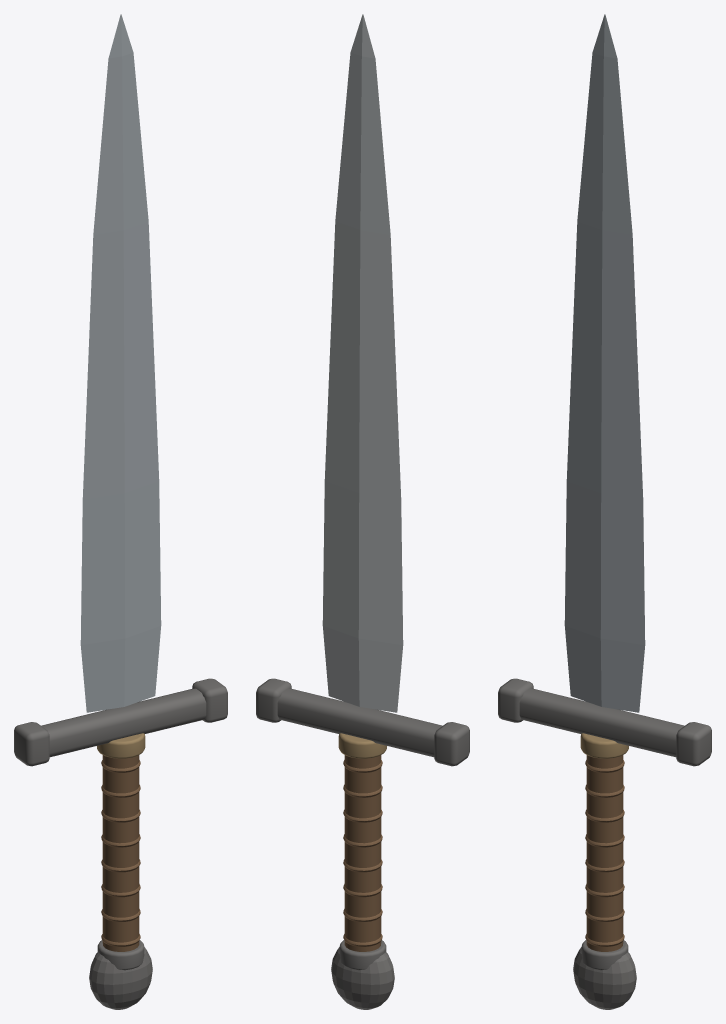
File: genesis_sword_provisional_v001.glb
The picture shows the model from 3 angles, left to right: view 1: azimuth 30°, elevation 25°; view 2: azimuth 150°, elevation 25°; view 3: azimuth 330°, elevation 25°; orthographic projection.
Parts seen in each view (by area): view 1: Genesis_Sword_Blade_Provisional, Genesis_Grip_Core, Genesis_Guard_Main, Genesis_Pommel, Genesis_Guard_End, Genesis_Guard_End.001, Genesis_Grip_Collar_Top, Genesis_Grip_Collar_Bottom; view 2: Genesis_Sword_Blade_Provisional, Genesis_Grip_Core, Genesis_Guard_Main, Genesis_Pommel, Genesis_Guard_End, Genesis_Guard_End.001, Genesis_Grip_Collar_Top, Genesis_Grip_Collar_Bottom; view 3: Genesis_Sword_Blade_Provisional, Genesis_Grip_Core, Genesis_Guard_Main, Genesis_Pommel, Genesis_Guard_End.001, Genesis_Guard_End, Genesis_Grip_Collar_Top, Genesis_Grip_Collar_Bottom.
Boxes of the visible parts, bbox=[...] form: Genesis_Sword_Blade_Provisional: bbox=[80, 14, 161, 712]; Genesis_Grip_Core: bbox=[102, 755, 139, 951]; Genesis_Guard_Main: bbox=[41, 688, 206, 757]; Genesis_Pommel: bbox=[89, 947, 152, 1009]; Genesis_Guard_End: bbox=[14, 722, 49, 766]; Genesis_Guard_End.001: bbox=[192, 678, 227, 722]; Genesis_Grip_Collar_Top: bbox=[97, 733, 145, 758]; Genesis_Grip_Collar_Bottom: bbox=[97, 940, 144, 970]; Genesis_Sword_Blade_Provisional: bbox=[322, 14, 403, 712]; Genesis_Grip_Core: bbox=[344, 755, 381, 951]; Genesis_Guard_Main: bbox=[277, 688, 442, 757]; Genesis_Pommel: bbox=[331, 947, 394, 1009]; Genesis_Guard_End: bbox=[434, 722, 469, 766]; Genesis_Guard_End.001: bbox=[256, 678, 291, 722]; Genesis_Grip_Collar_Top: bbox=[338, 733, 386, 758]; Genesis_Grip_Collar_Bottom: bbox=[339, 940, 386, 970]; Genesis_Sword_Blade_Provisional: bbox=[564, 14, 645, 712]; Genesis_Grip_Core: bbox=[586, 755, 623, 951]; Genesis_Guard_Main: bbox=[519, 688, 684, 757]; Genesis_Pommel: bbox=[573, 947, 636, 1009]; Genesis_Guard_End.001: bbox=[676, 722, 711, 766]; Genesis_Guard_End: bbox=[498, 678, 533, 722]; Genesis_Grip_Collar_Top: bbox=[580, 733, 628, 758]; Genesis_Grip_Collar_Bottom: bbox=[581, 940, 628, 970].
Size of the model in its own units: 0.306 by 1.44 by 0.064.
